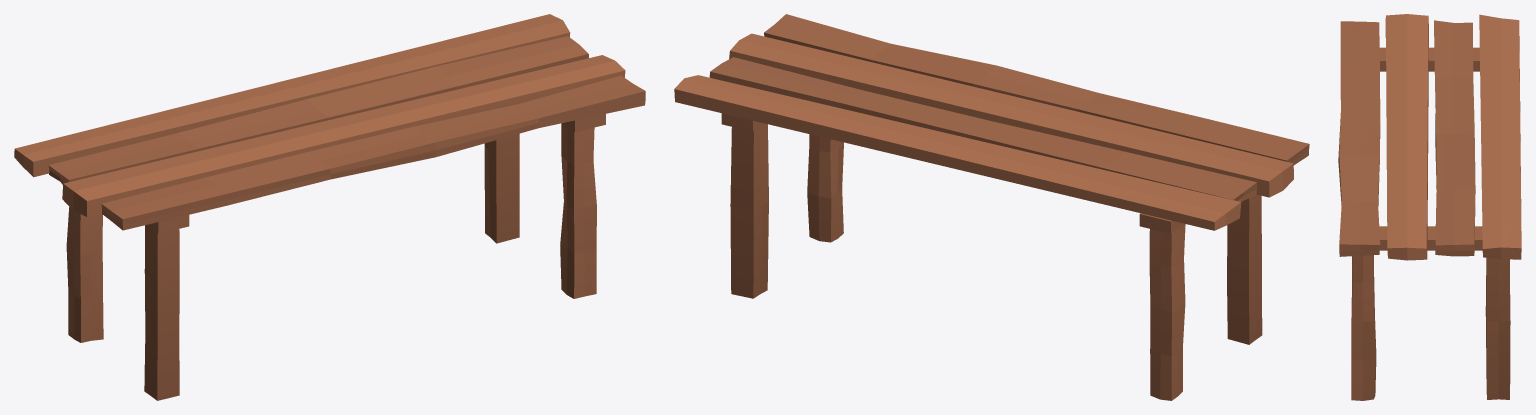
The model's file is table.glb.
The picture shows the model from 3 angles, left to right: view 1: azimuth 30°, elevation 25°; view 2: azimuth 150°, elevation 25°; view 3: azimuth 270°, elevation 25°; orthographic projection. The views are drawn at different scales.
Visible parts, largest first — view 1: table; view 2: table; view 3: table.
Part boxes in pixels (x1,y1,x2,y2): table: [14, 14, 645, 400]; table: [674, 14, 1309, 400]; table: [1338, 14, 1521, 400].
Size of the model in its own units: 2.49 by 0.8749 by 0.8273.
1 material, 1 textured.
